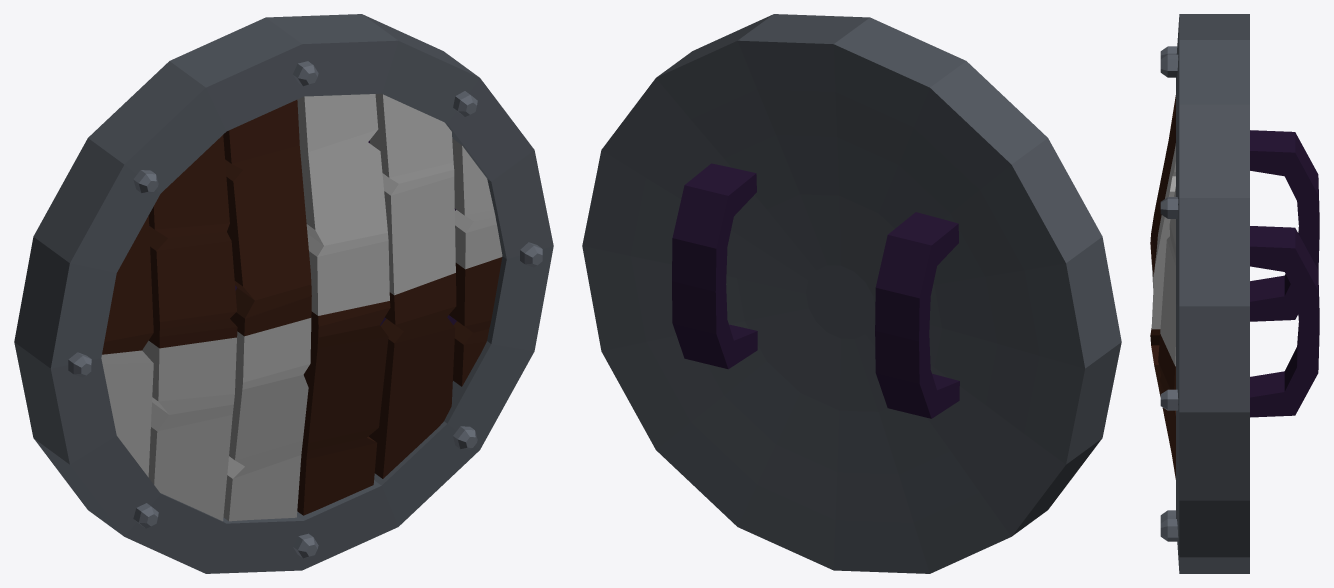
File: Shield_Round_2.glb
The picture shows the model from 3 angles, left to right: view 1: azimuth 30°, elevation 25°; view 2: azimuth 150°, elevation 25°; view 3: azimuth 270°, elevation 25°; orthographic projection. The views are drawn at different scales.
Parts seen in each view (by area): view 1: Shield_Round_2; view 2: Shield_Round_2; view 3: Shield_Round_2.
Boxes of the visible parts, x1=… form: Shield_Round_2: x1=14, y1=14, x2=553, y2=573; Shield_Round_2: x1=582, y1=14, x2=1121, y2=573; Shield_Round_2: x1=1150, y1=14, x2=1319, y2=573.
Size of the model in its own units: 0.48 by 0.48 by 0.1449.
